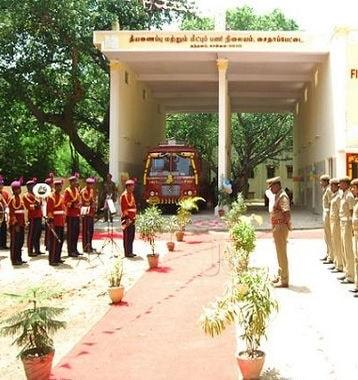Fire-engine: (143, 143, 206, 216)
